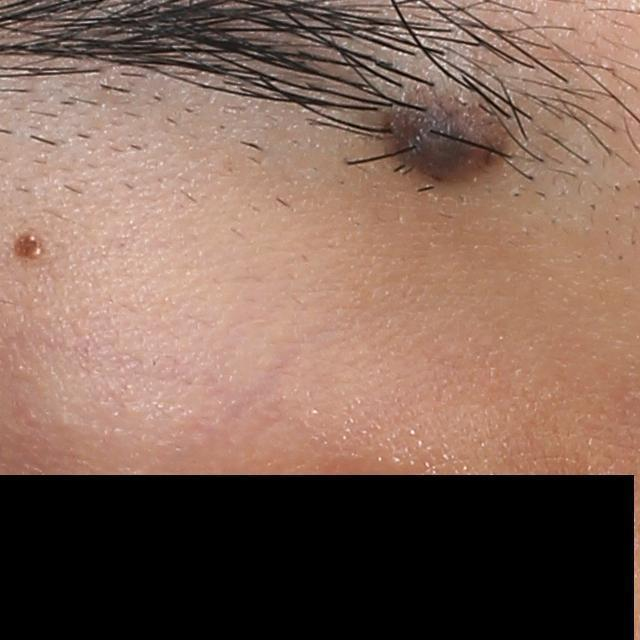nevus: (385, 95, 507, 186)
